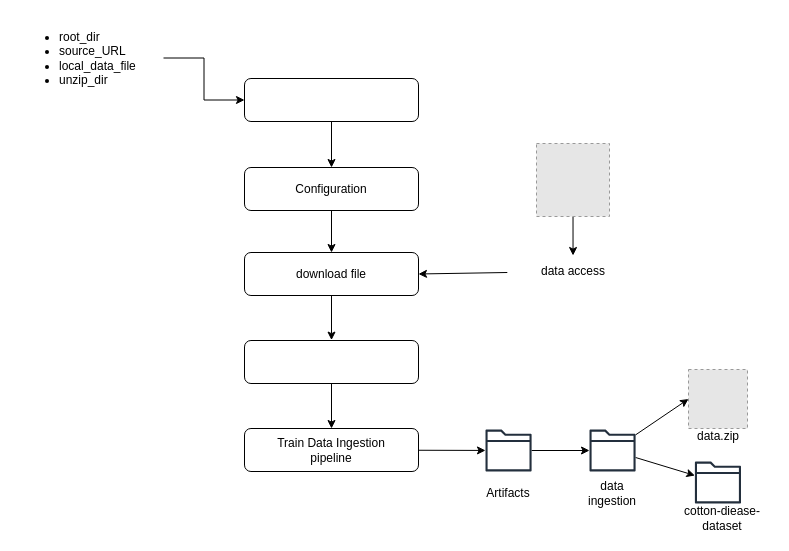
This 789x551 diagram has some shape labels left out. Grey dashed boxes stand in for pictures. The centre of each missing label's shape, as x and y in pixels:
Data Ingestion Config: the point at 331,100
extract zip file: the point at 331,362
